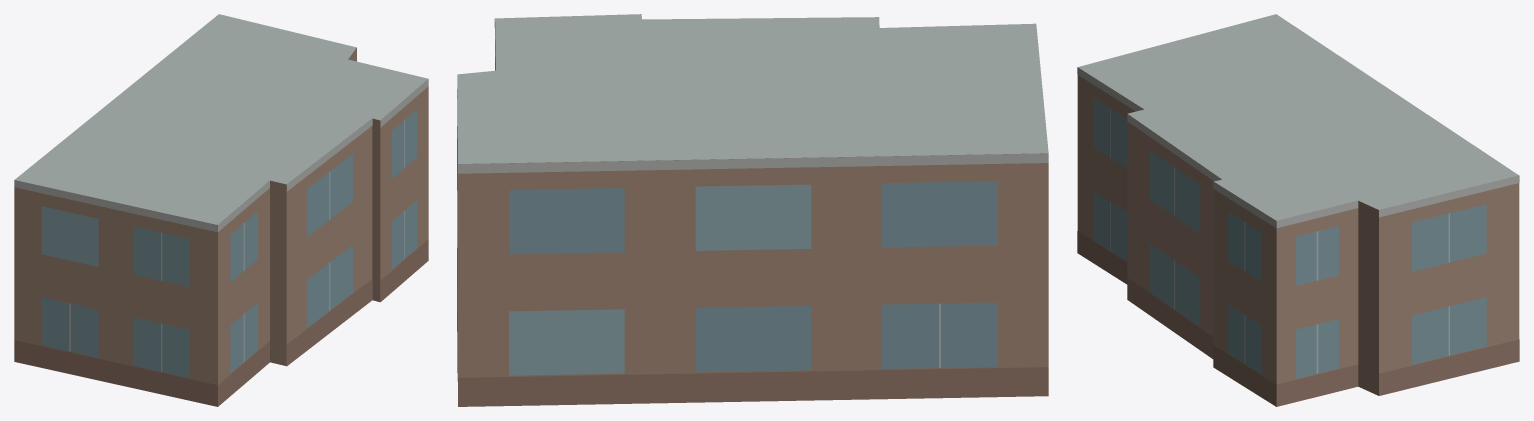
The model's file is survey-upis-32523519.glb.
The picture shows the model from 3 angles, left to right: view 1: azimuth 30°, elevation 25°; view 2: azimuth 150°, elevation 25°; view 3: azimuth 270°, elevation 25°; orthographic projection. The views are drawn at different scales.
Visible parts, largest first — view 1: survey-upis-32523519.tmp; view 2: survey-upis-32523519.tmp; view 3: survey-upis-32523519.tmp.
Boxes of the visible parts, box(x1,y1,x2,y2) form: survey-upis-32523519.tmp: box(14, 14, 428, 406); survey-upis-32523519.tmp: box(457, 14, 1048, 406); survey-upis-32523519.tmp: box(1077, 14, 1519, 406).
Bounding box in the file's own units: 14.56 × 6.1 × 13.14.
